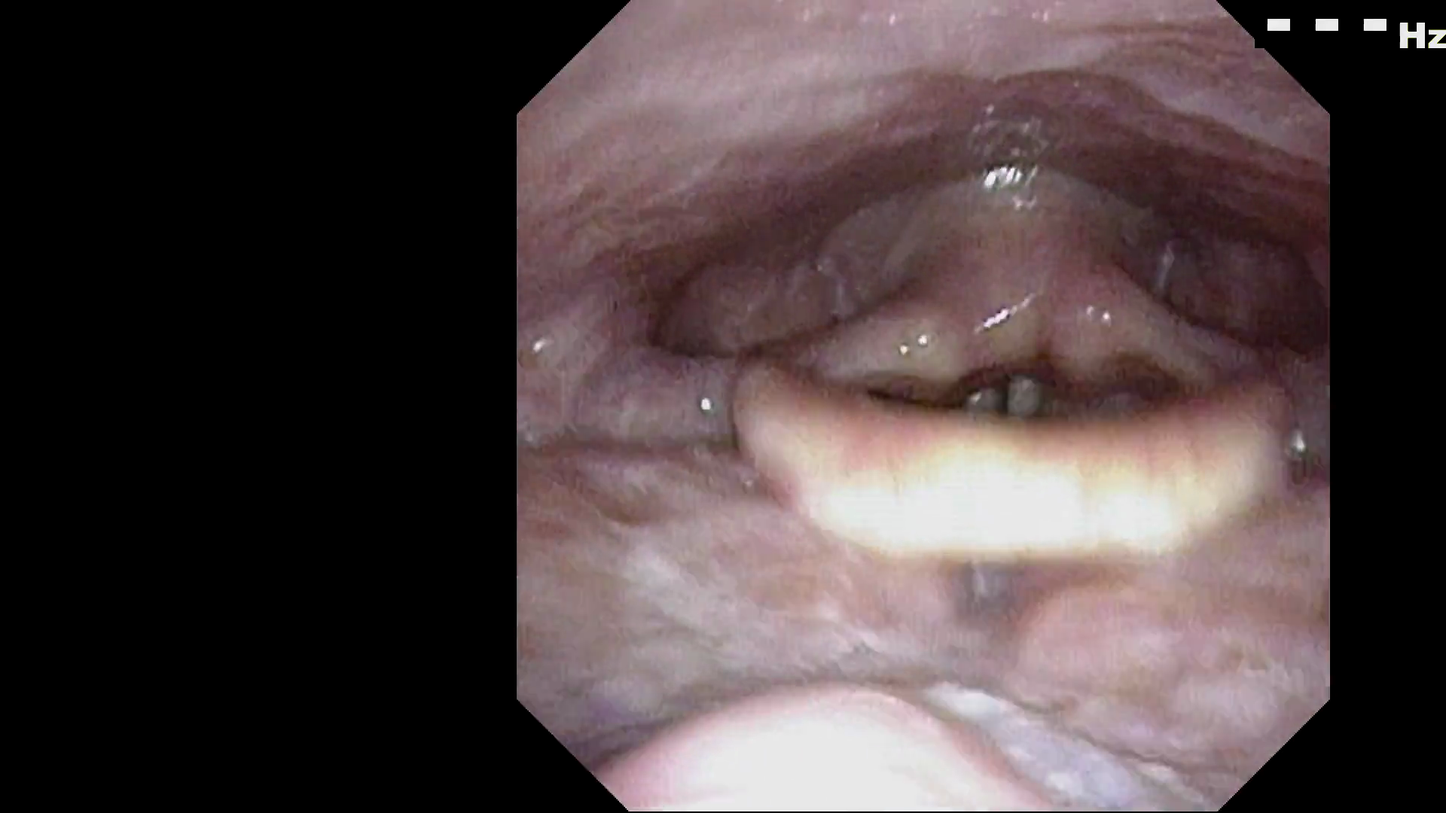epiglottis: (771, 277, 1198, 417)
